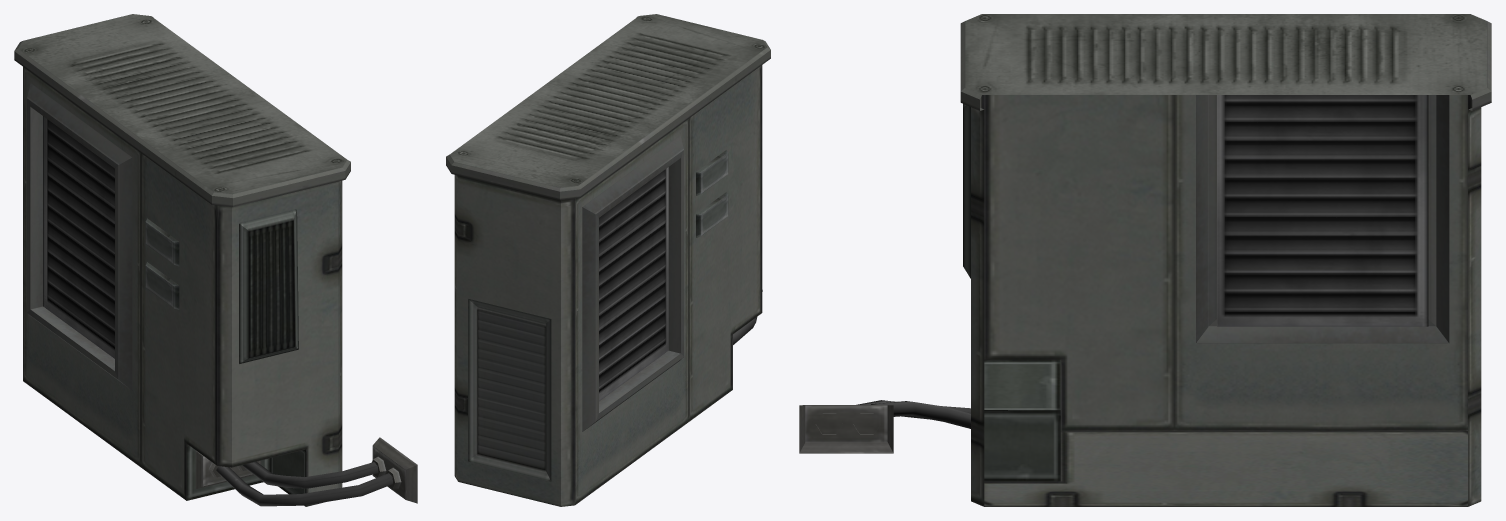
Rendered from aircon5_fbx.FBX.
3 views of the same model, side by side, from view 1: azimuth 30°, elevation 25°; view 2: azimuth 150°, elevation 25°; view 3: azimuth 270°, elevation 25° (orthographic). The views are drawn at different scales.
Parts seen in each view (by area): view 1: aircon5; view 2: aircon5; view 3: aircon5.
Part boxes in pixels (x1,y1,x2,y2): aircon5: [14, 14, 417, 506]; aircon5: [446, 14, 770, 506]; aircon5: [799, 14, 1491, 506].
Size of the model in its own units: 8.76 by 19.78 by 29.94.
